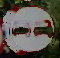No overtake: (9, 7, 57, 50)
